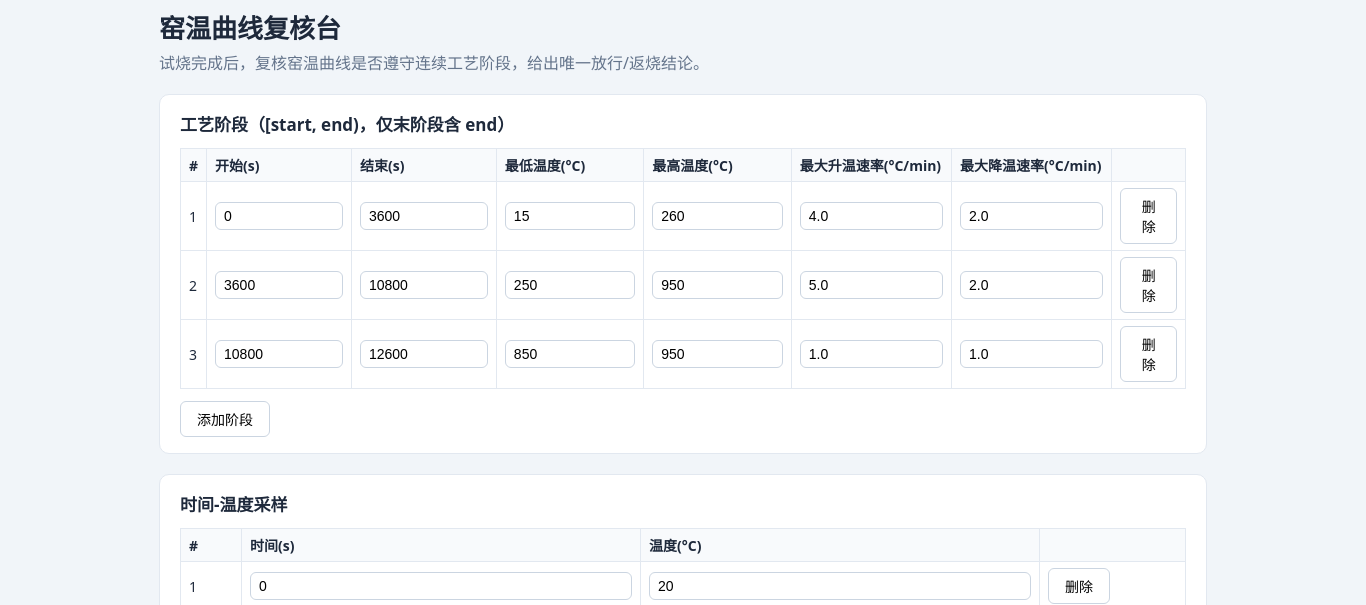
Test: 复核台 › 阶段与采样表格可编辑、增删
Replace the text in the field with test id "stage-0-max_temp" with "300": point(718, 216) [652, 202, 783, 230]
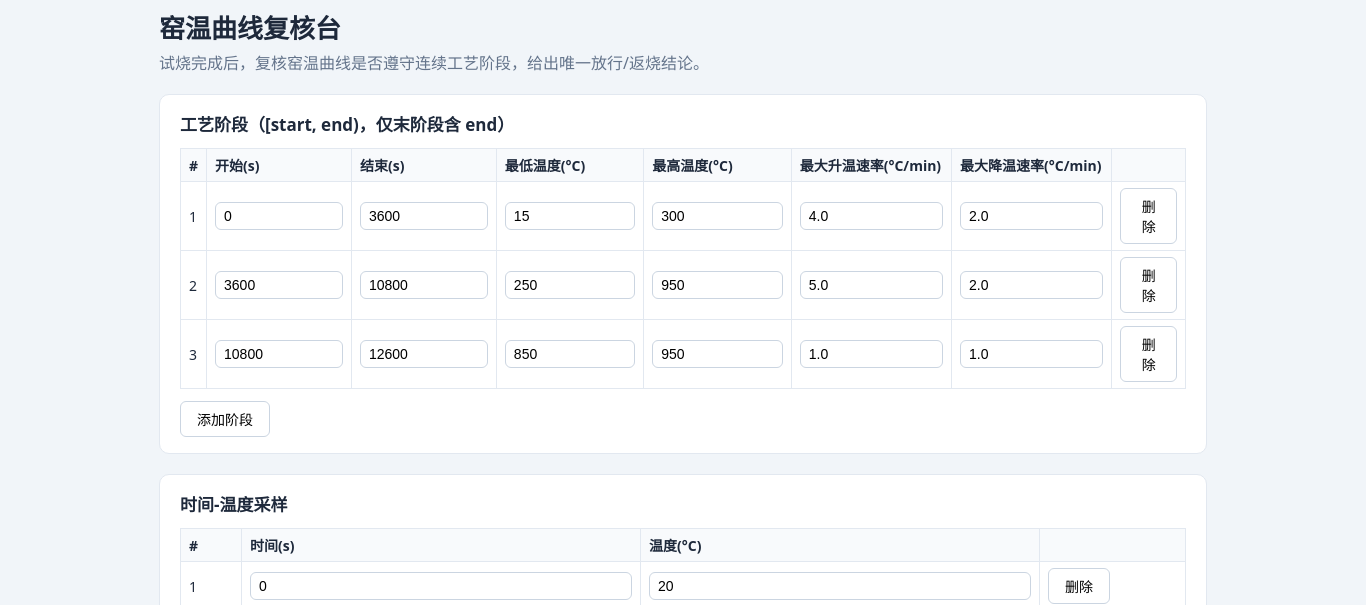
#  添加/删除阶段
Click the button with test id "add-stage": point(225, 419) [180, 401, 270, 437]
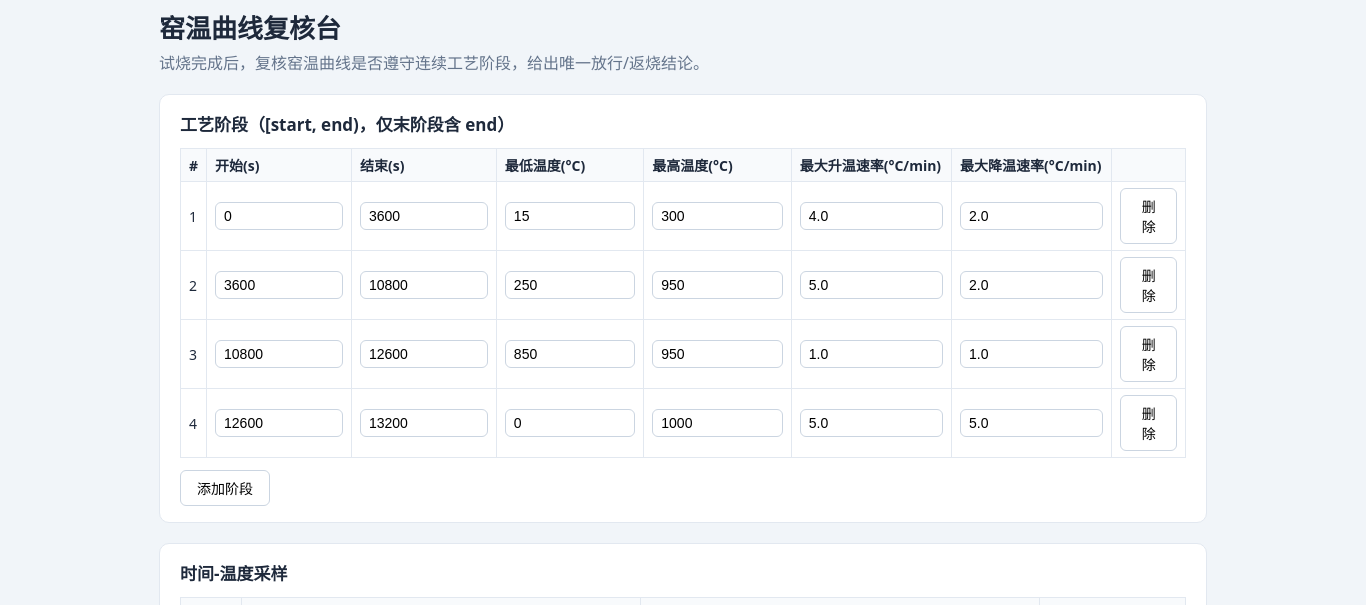
Expected: the field with test id "stage-3-start" is shown, [215, 409, 343, 437]
Click the button with test id "stage-remove-3": point(1149, 423) [1120, 395, 1177, 451]
(page scrolled)
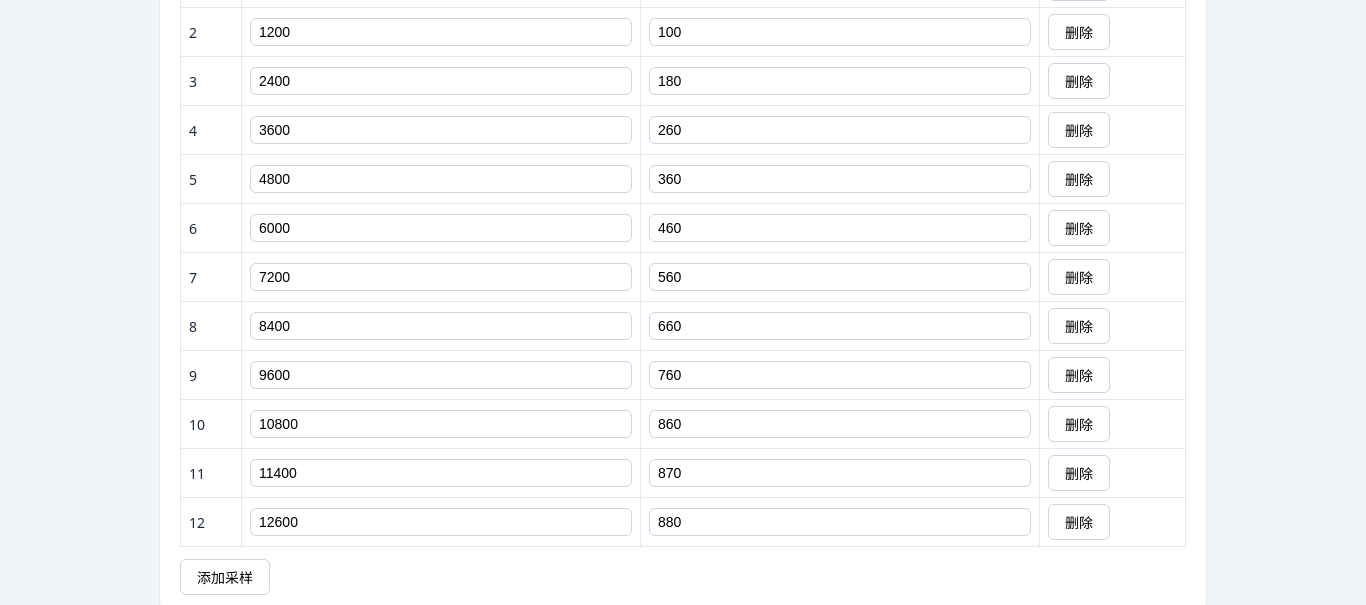
Expected: the field with test id "stage-3-start" is gone
#  添加/删除采样
Click the button with test id "add-sample": point(225, 577) [180, 559, 270, 595]
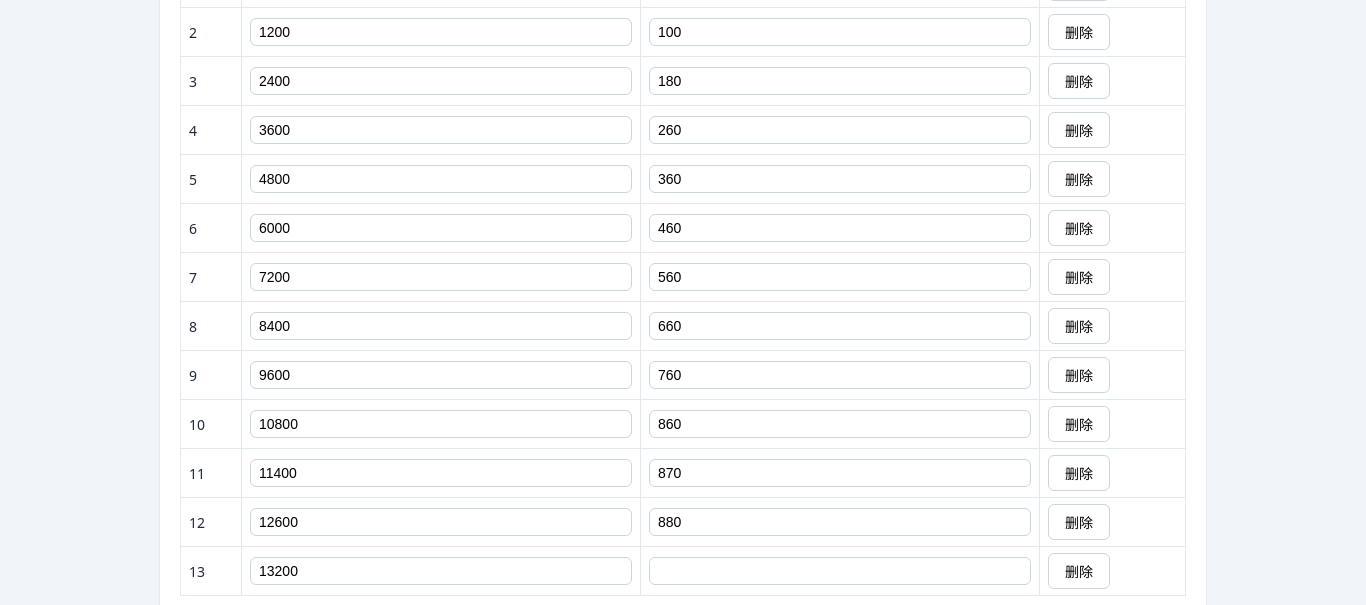
Expected: the field with test id "sample-12-time" is shown, [250, 557, 632, 585]
Click the button with test id "sample-remove-12": point(1079, 571) [1048, 553, 1110, 589]
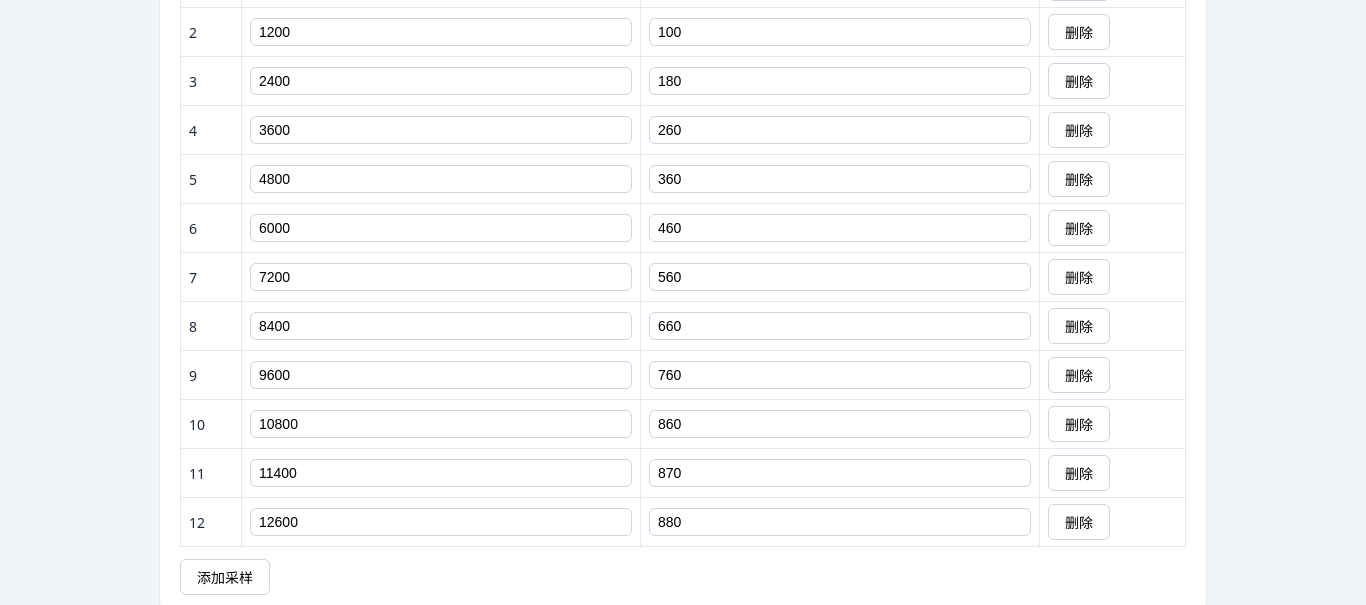
Expected: the field with test id "sample-12-time" is gone
